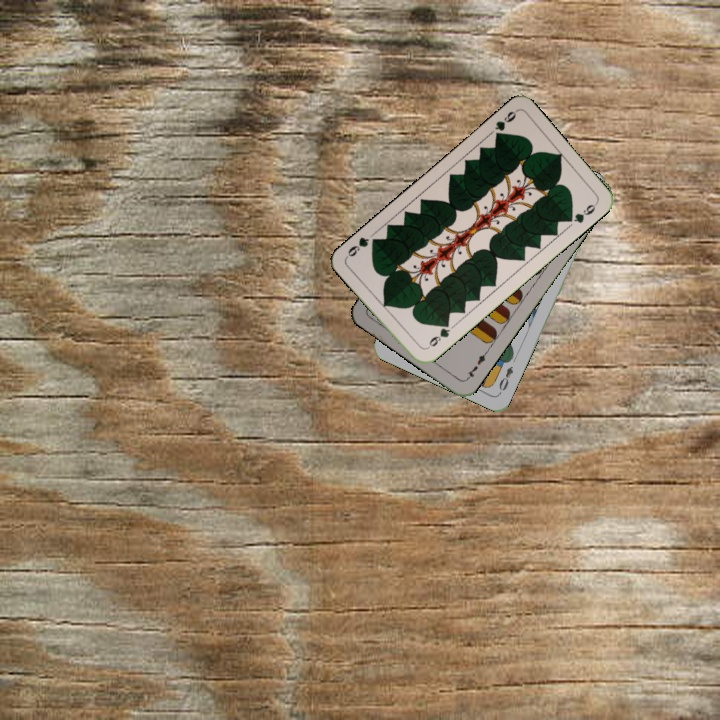E7: (462, 347, 490, 383)
EO: (495, 362, 516, 396)
G9: (422, 318, 453, 352), (490, 107, 520, 142)
